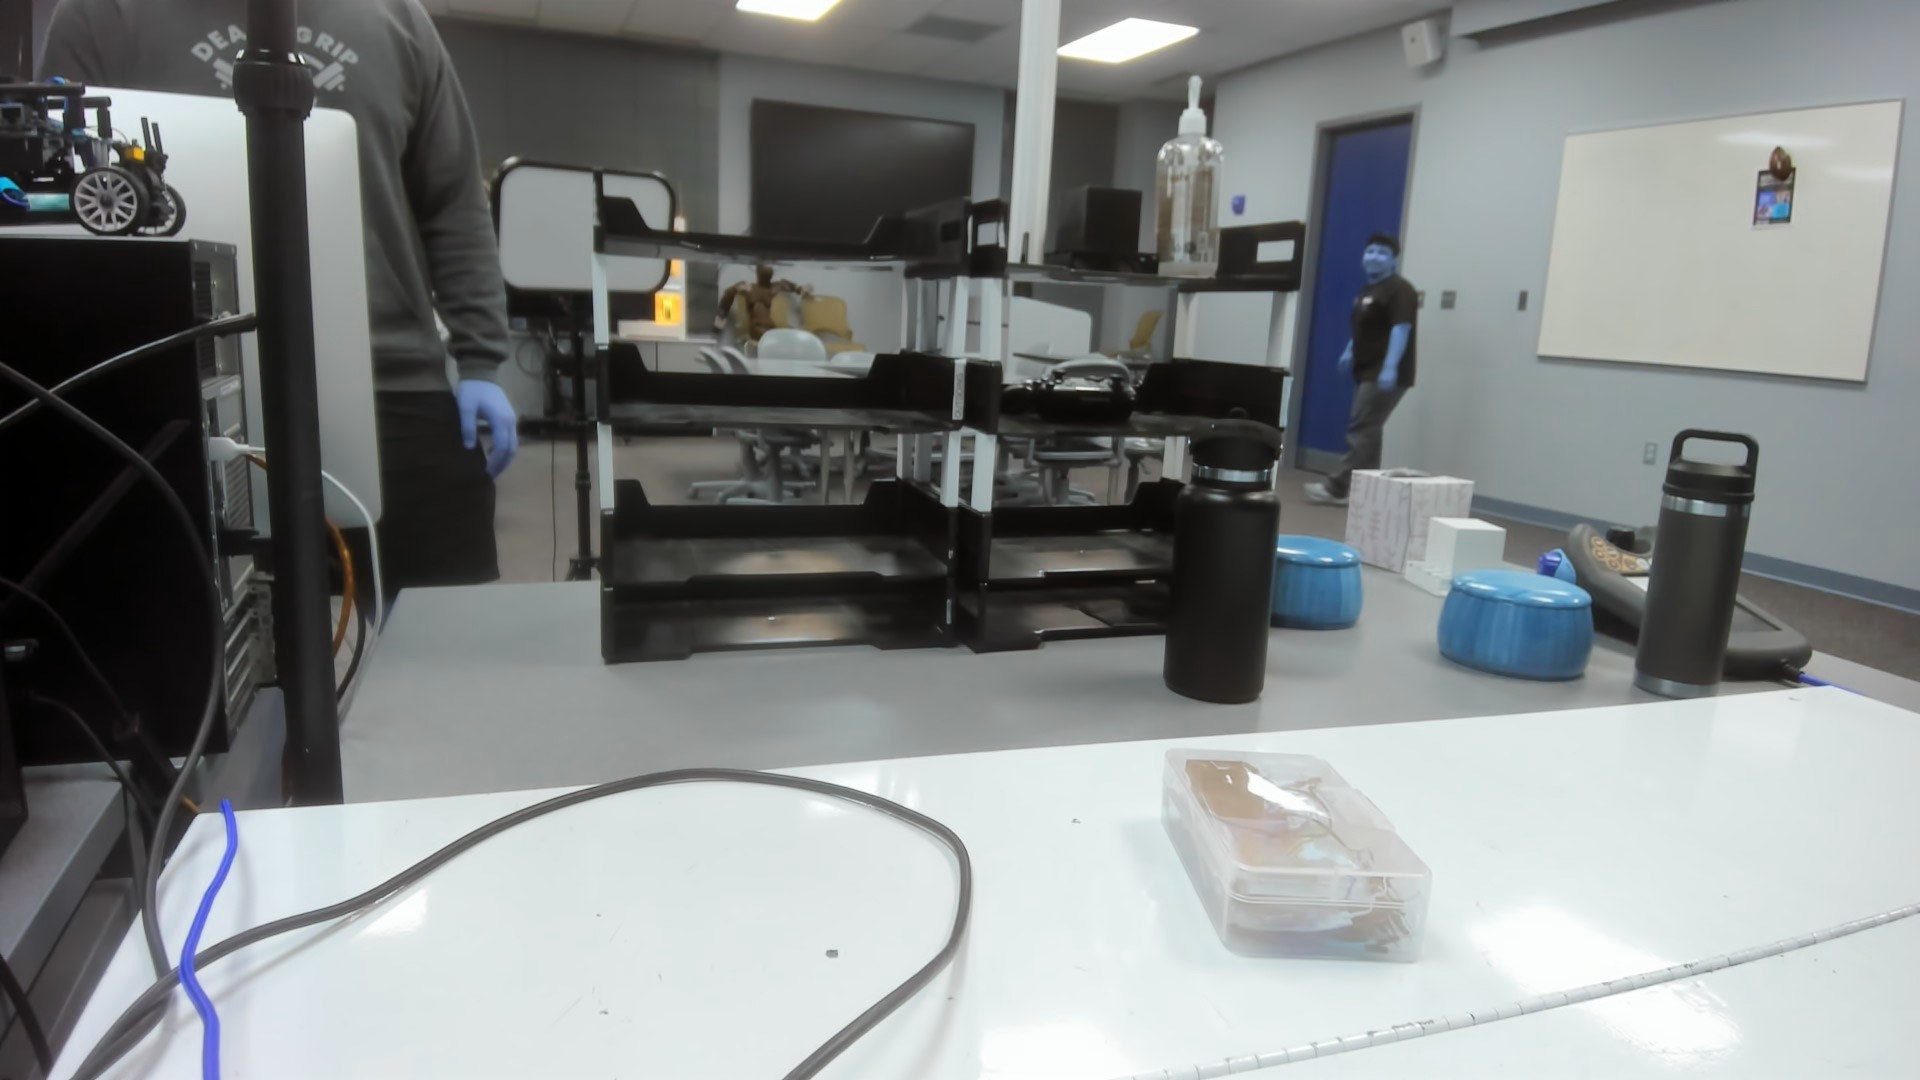black pallet: (1040, 181, 1168, 278)
white pallet: (1396, 516, 1513, 600)
